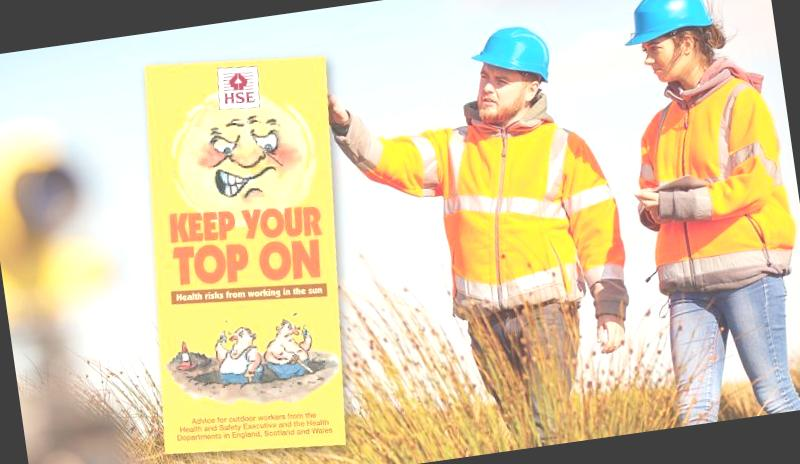helmet: (461, 21, 568, 98), (608, 0, 722, 54)
person: (395, 12, 644, 458), (608, 0, 800, 428)
